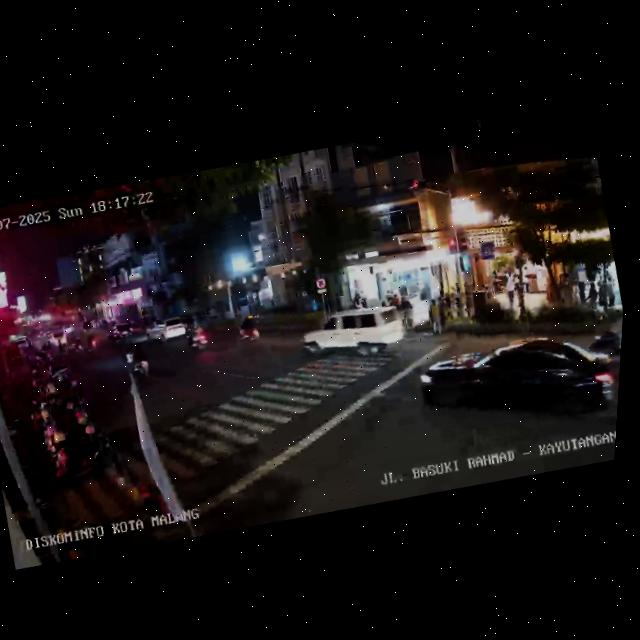car: (411, 314, 623, 454), (297, 295, 411, 372), (143, 314, 188, 348), (105, 318, 136, 343), (46, 327, 69, 349), (77, 318, 95, 335), (60, 323, 74, 336)
motorcycle: (580, 313, 623, 365), (127, 340, 154, 381), (235, 312, 264, 345), (183, 323, 211, 354), (85, 332, 101, 356), (70, 337, 86, 359)
person: (425, 298, 445, 337), (398, 294, 417, 332), (594, 275, 612, 311), (501, 274, 518, 310), (602, 275, 618, 308), (568, 278, 584, 308)
